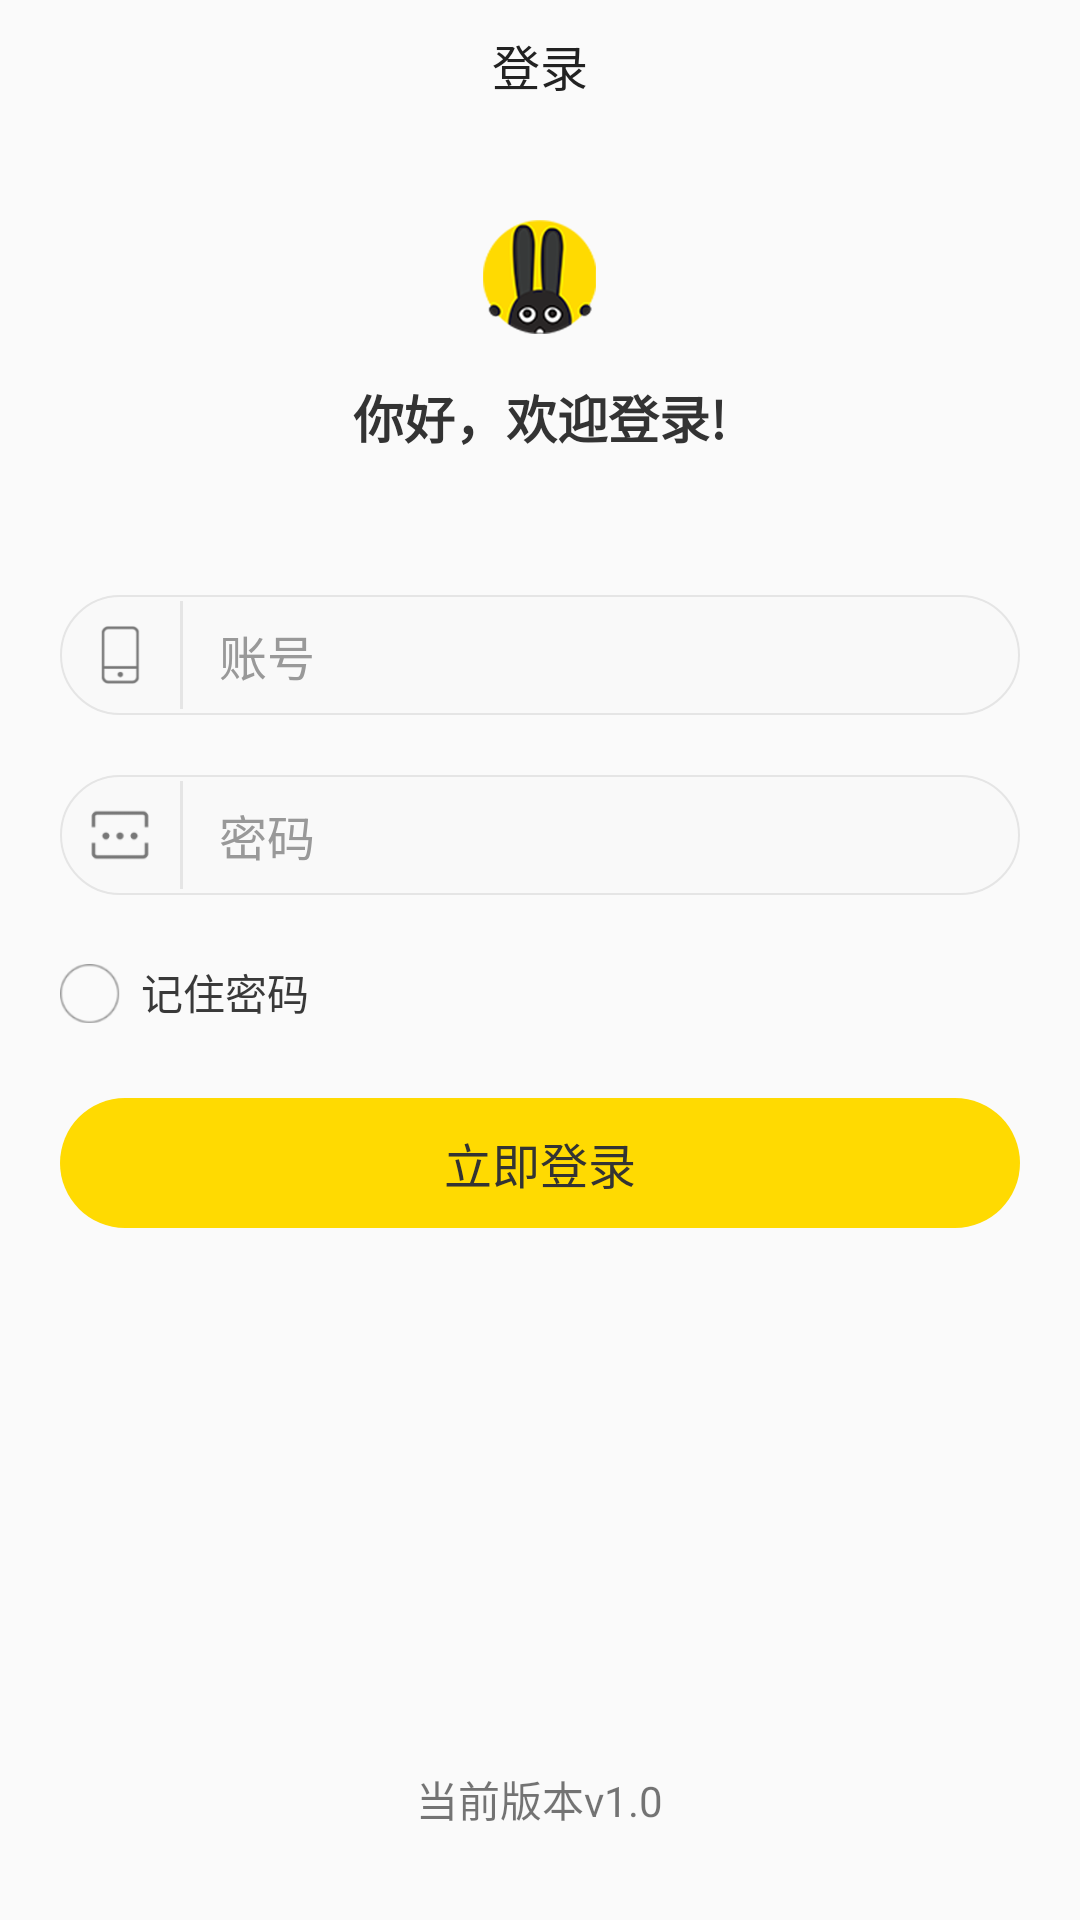

Named icons in this screenshot (1080px x 1920px) and their centers, (x,y):
login code: (120,835)
phone: (120,655)
